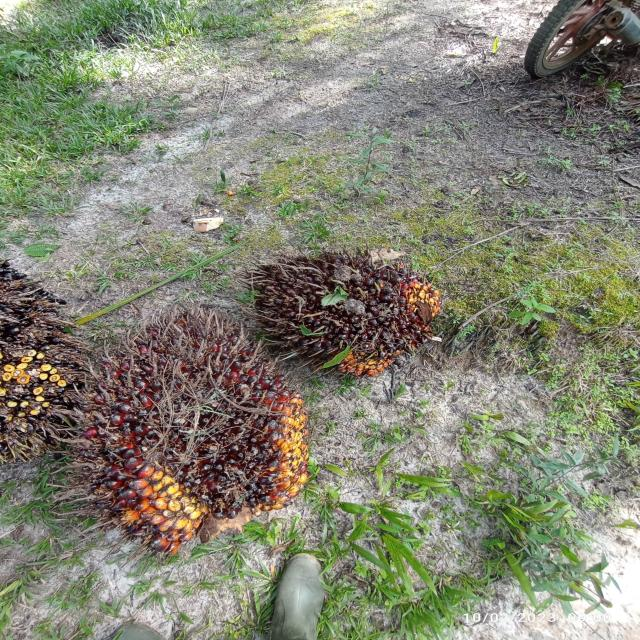fraksi 00: (220, 240, 481, 399)
fraksi 1: (36, 320, 323, 539)
